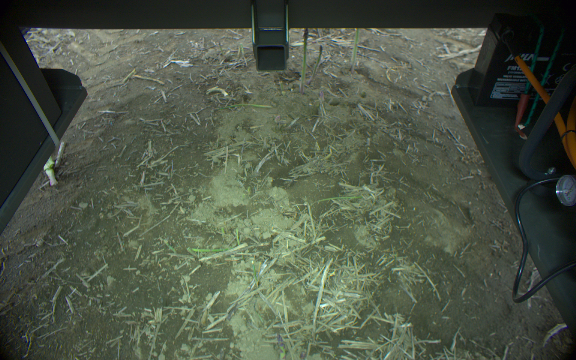aspa: (306, 44, 325, 85), (348, 28, 361, 74), (300, 26, 308, 94), (221, 102, 276, 109), (273, 333, 287, 360)
